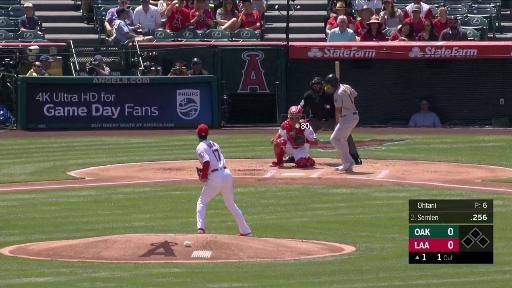pitcher: (196, 124, 255, 238)
